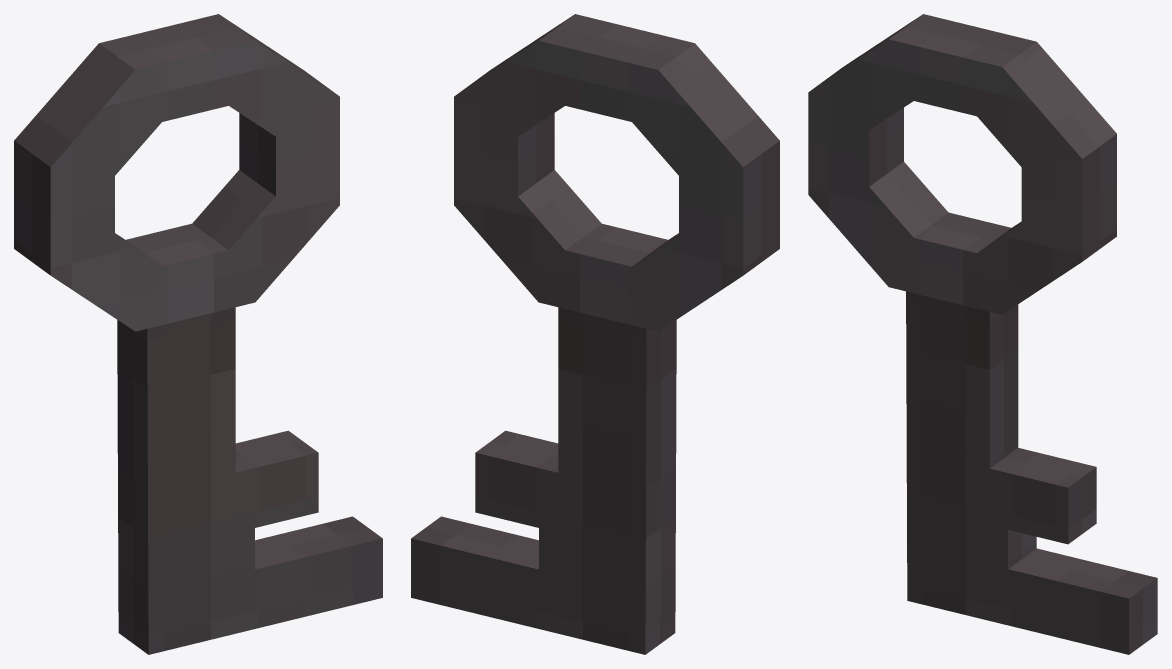
Rendered from cutout.obj.
The picture shows the model from 3 angles, left to right: view 1: azimuth 30°, elevation 25°; view 2: azimuth 150°, elevation 25°; view 3: azimuth 330°, elevation 25°; orthographic projection. The views are drawn at different scales.
Size of the model in its own units: 0.443 by 0.7464 by 0.0838.
